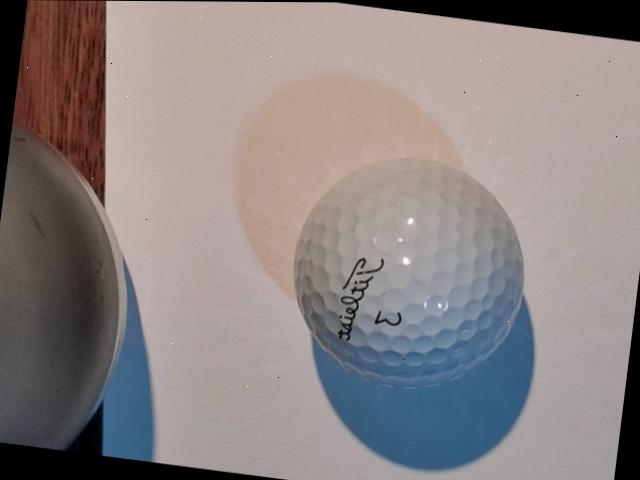Ball: (282, 143, 540, 402)
Titleist: (338, 253, 387, 345)
